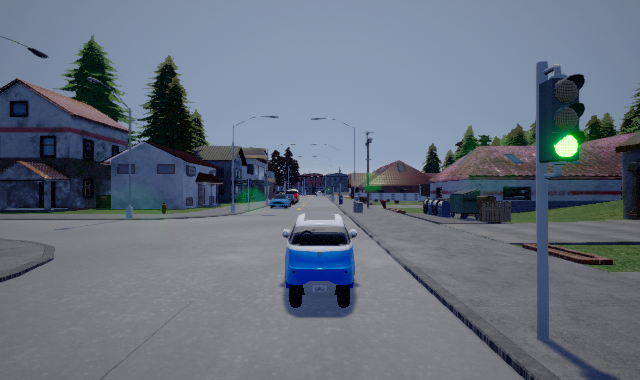traffic_light: (539, 70, 586, 162)
vehicle: (282, 213, 357, 308), (269, 193, 290, 209)
